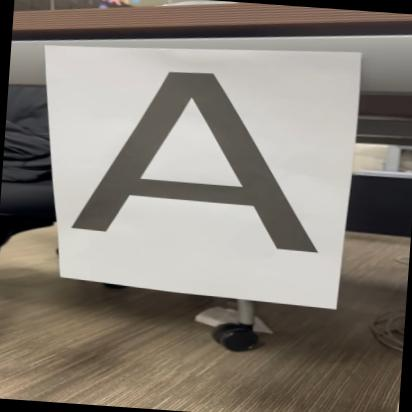seat: (74, 66, 352, 264)
